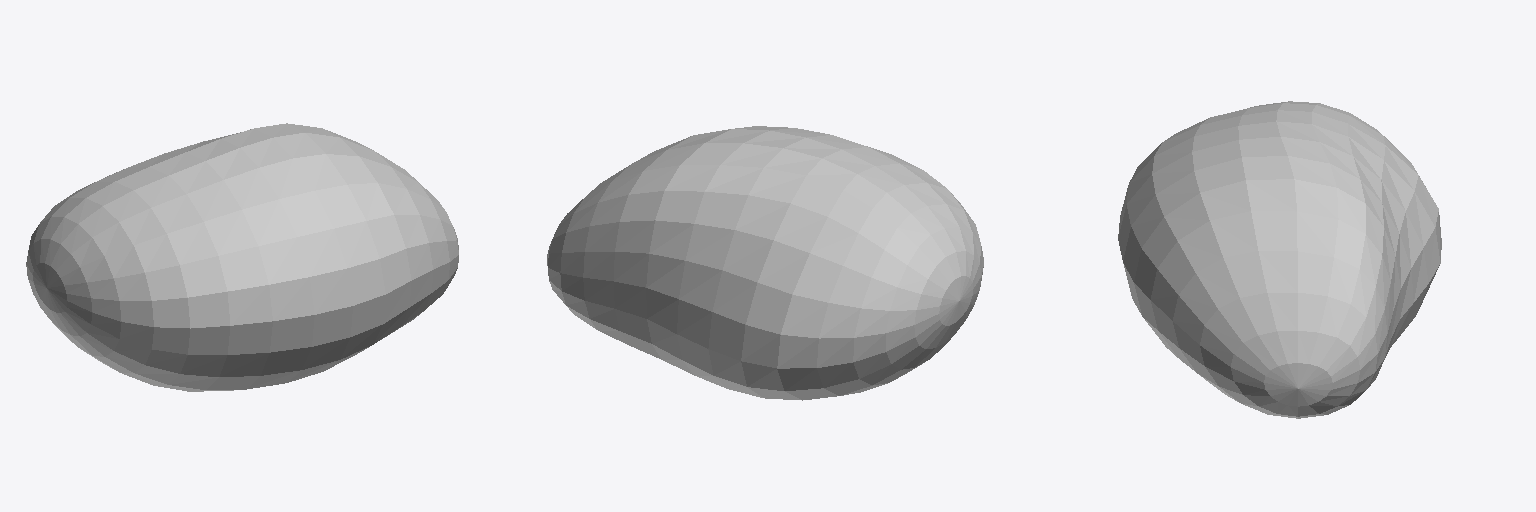
The model's file is mango.obj.
The picture shows the model from 3 angles: view 1: azimuth 30°, elevation 25°; view 2: azimuth 150°, elevation 25°; view 3: azimuth 270°, elevation 25°; orthographic projection.
Visible parts, largest first — view 1: Sphere; view 2: Sphere; view 3: Sphere.
Part boxes in pixels (left/top/right/bottom): Sphere: left=26, top=123, right=458, bottom=391; Sphere: left=547, top=126, right=983, bottom=400; Sphere: left=1118, top=101, right=1441, bottom=418.
Size of the model in its own units: 2.62 by 1.4 by 1.83.